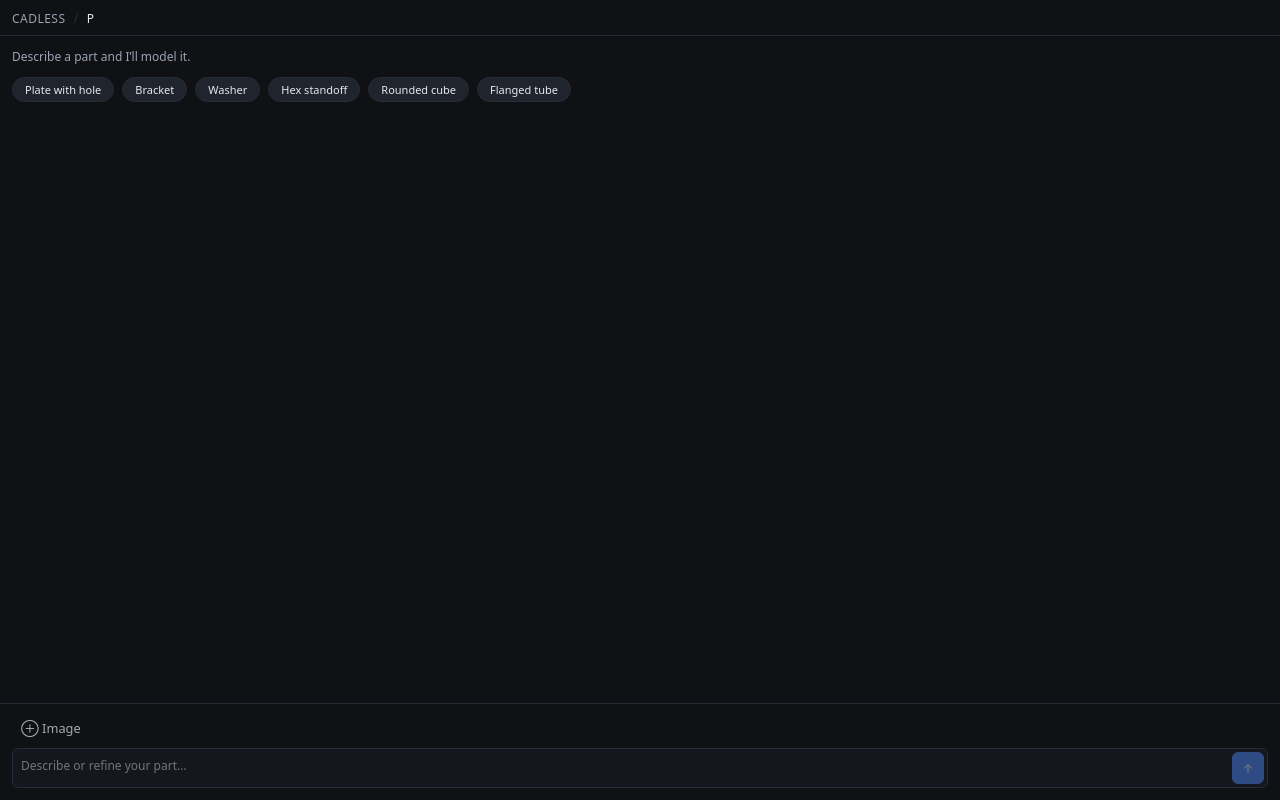
Test case: ChatPanel › says the turn will stop after the current step once Stop is pressed
This screenshot has width=1280, height=800.
Type "a cube" into the text box with placeholder "Describe or refine your part…" at {"x": 640, "y": 768}, box [12,748,1268,788]
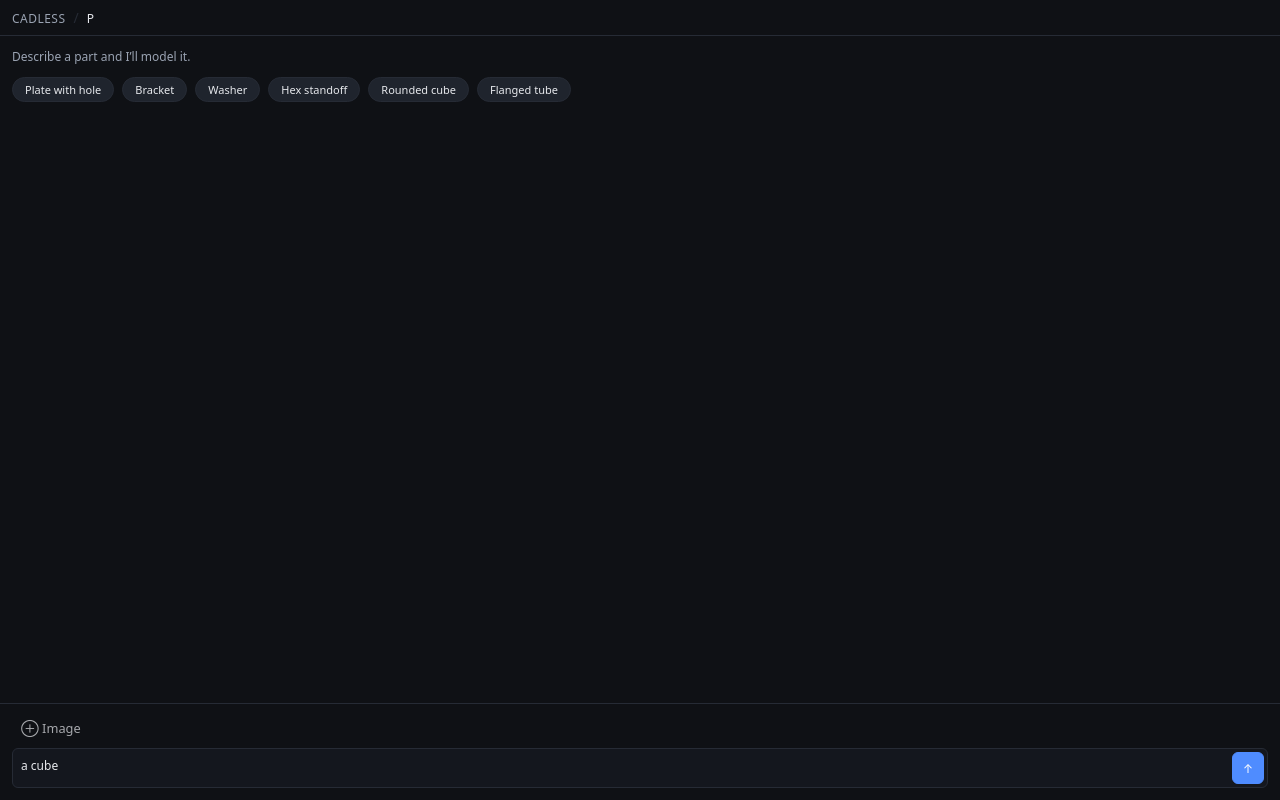
Click the button named "Send" at {"x": 1248, "y": 768}, box [1232,752,1264,784]
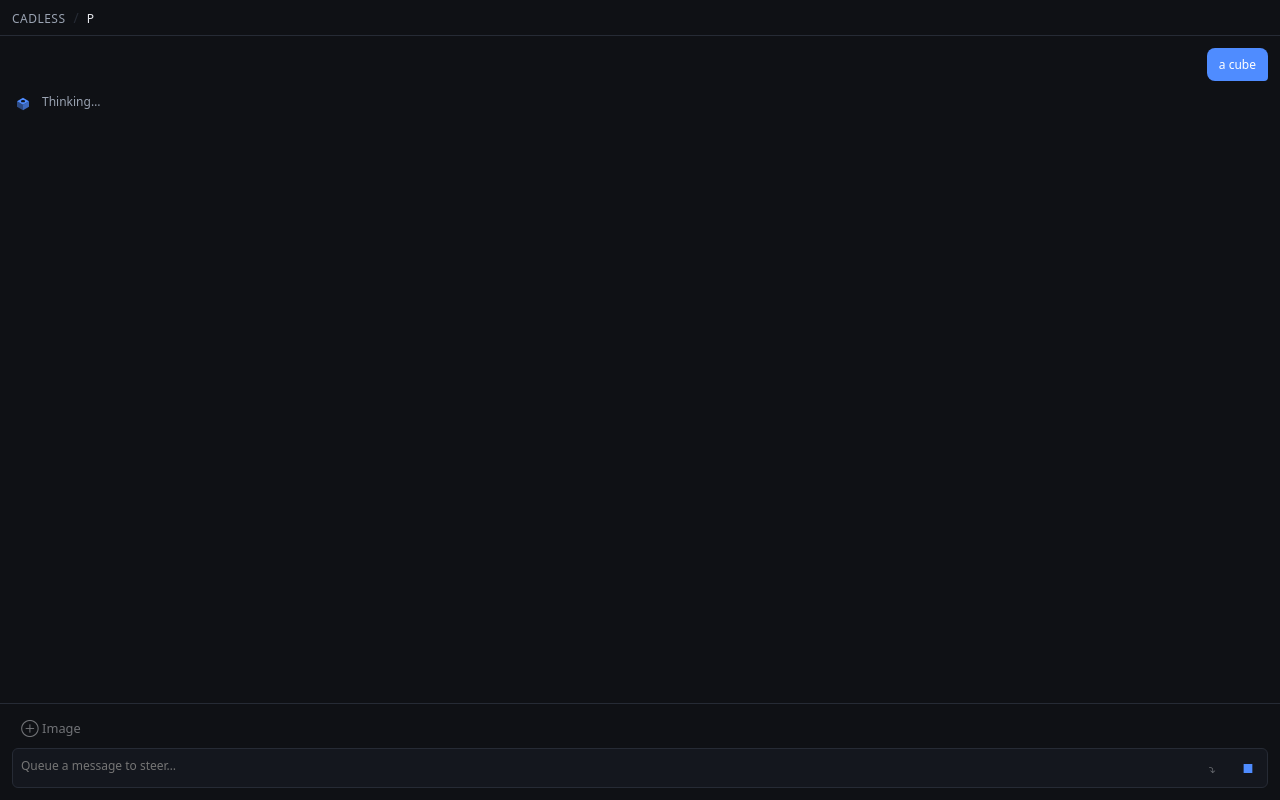
Click the button named "Stop" at {"x": 1248, "y": 768}, box [1232,752,1264,784]
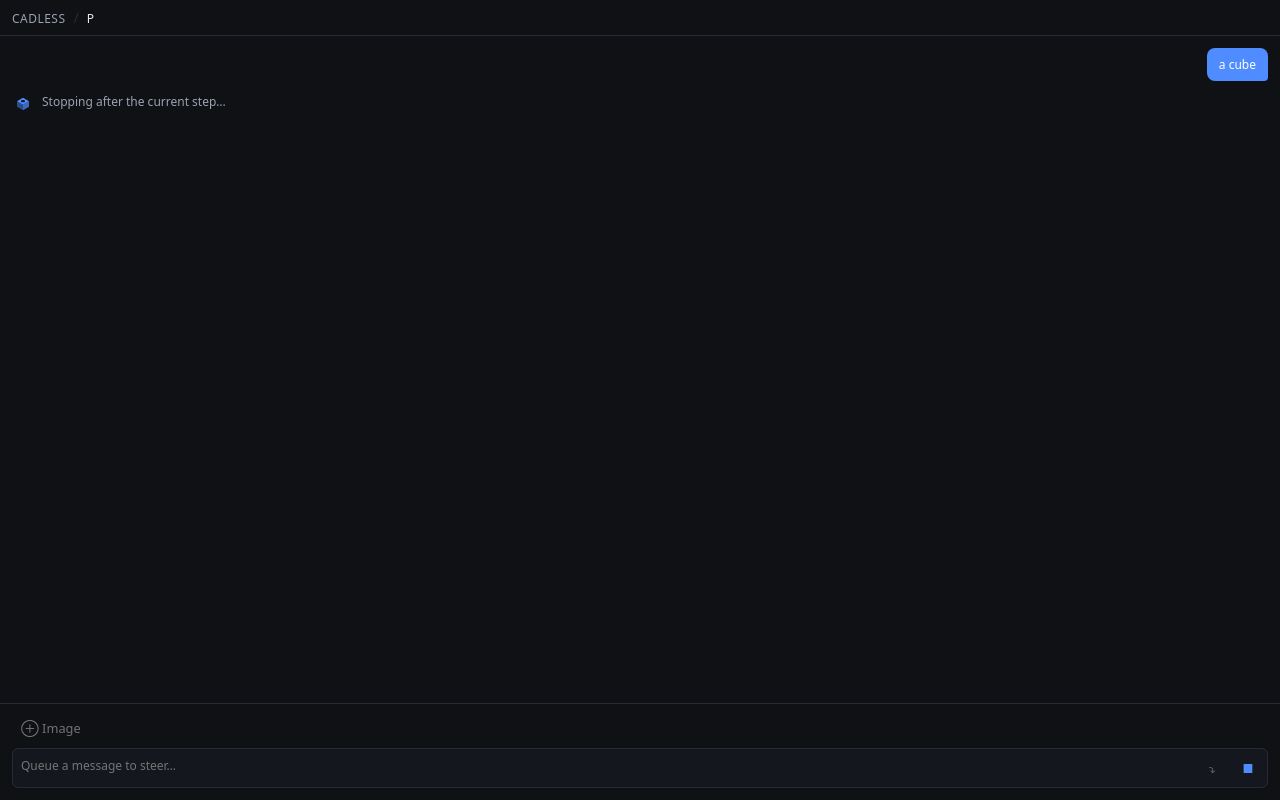
Now the text "Stopping after the current step…" is shown, box [42,93,226,110]
